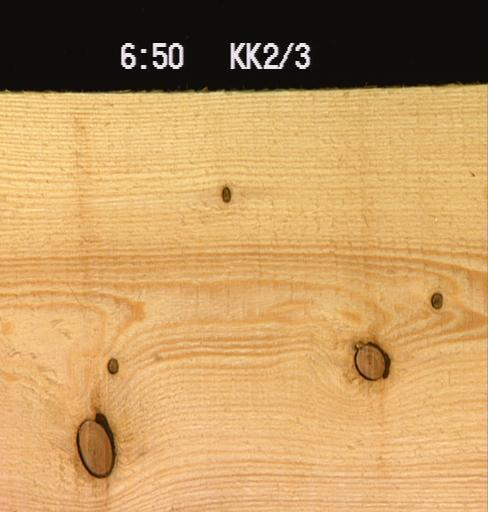dry_knot: (105, 354, 119, 376), (429, 289, 442, 310), (220, 184, 232, 204)
